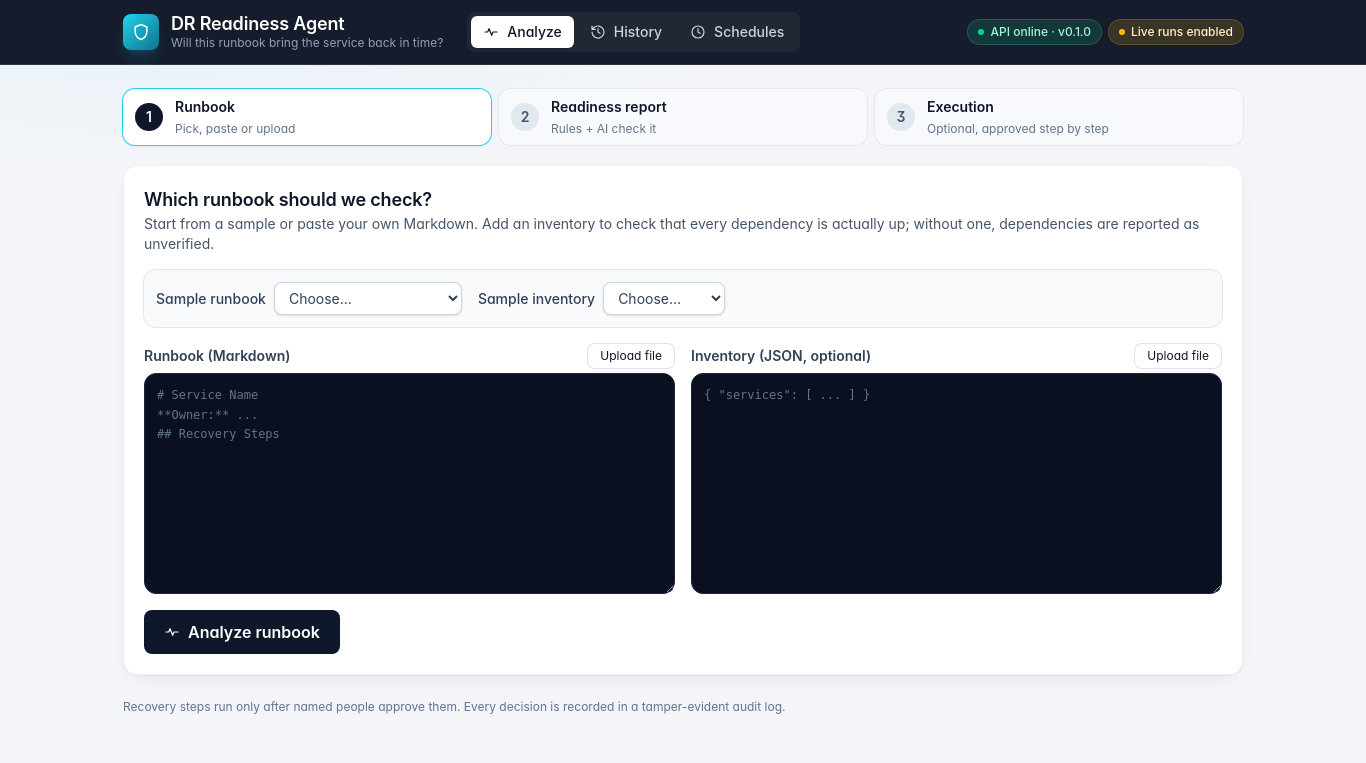
Test: App › shows the rule-based-only state when AI is unavailable
The image size is (1366, 763).
Step 1. Select "payment-gateway.md" in the dropdown labelled "Sample runbook" → (368, 298), box left=274, top=282, right=462, bottom=315
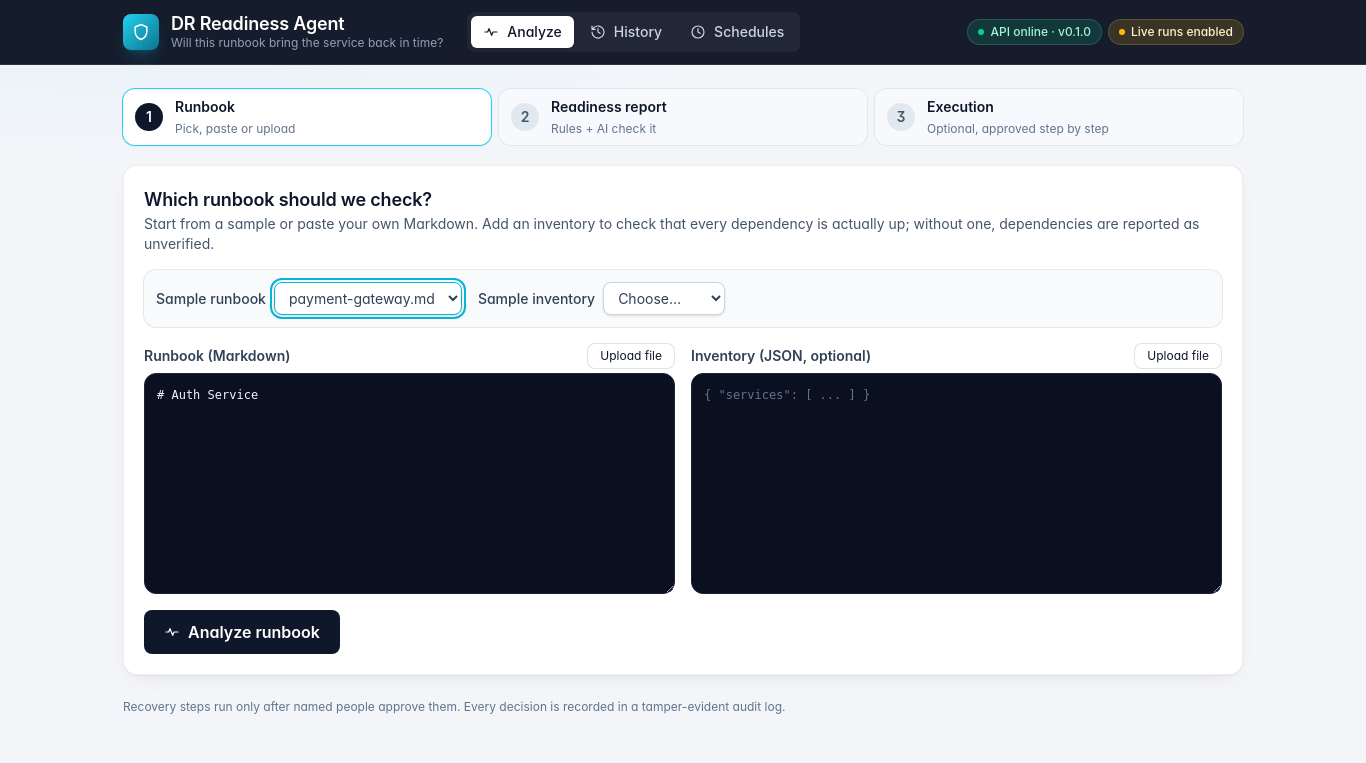
Step 2. Click the button "Analyze runbook" → click(242, 632), box left=144, top=610, right=340, bottom=654
(page scrolled)
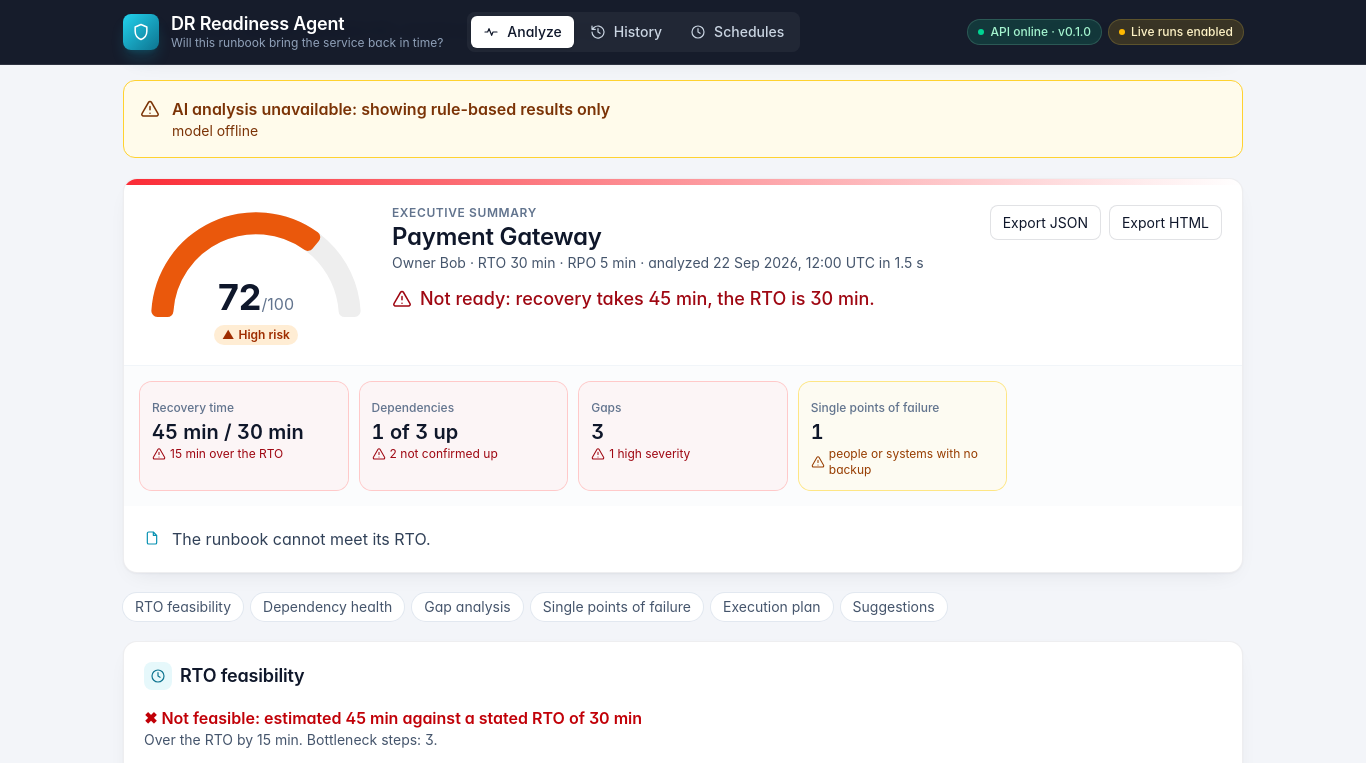
Expected: the text "AI analysis unavailable: showing rule-based results only" is shown, left=172, top=97, right=610, bottom=121
